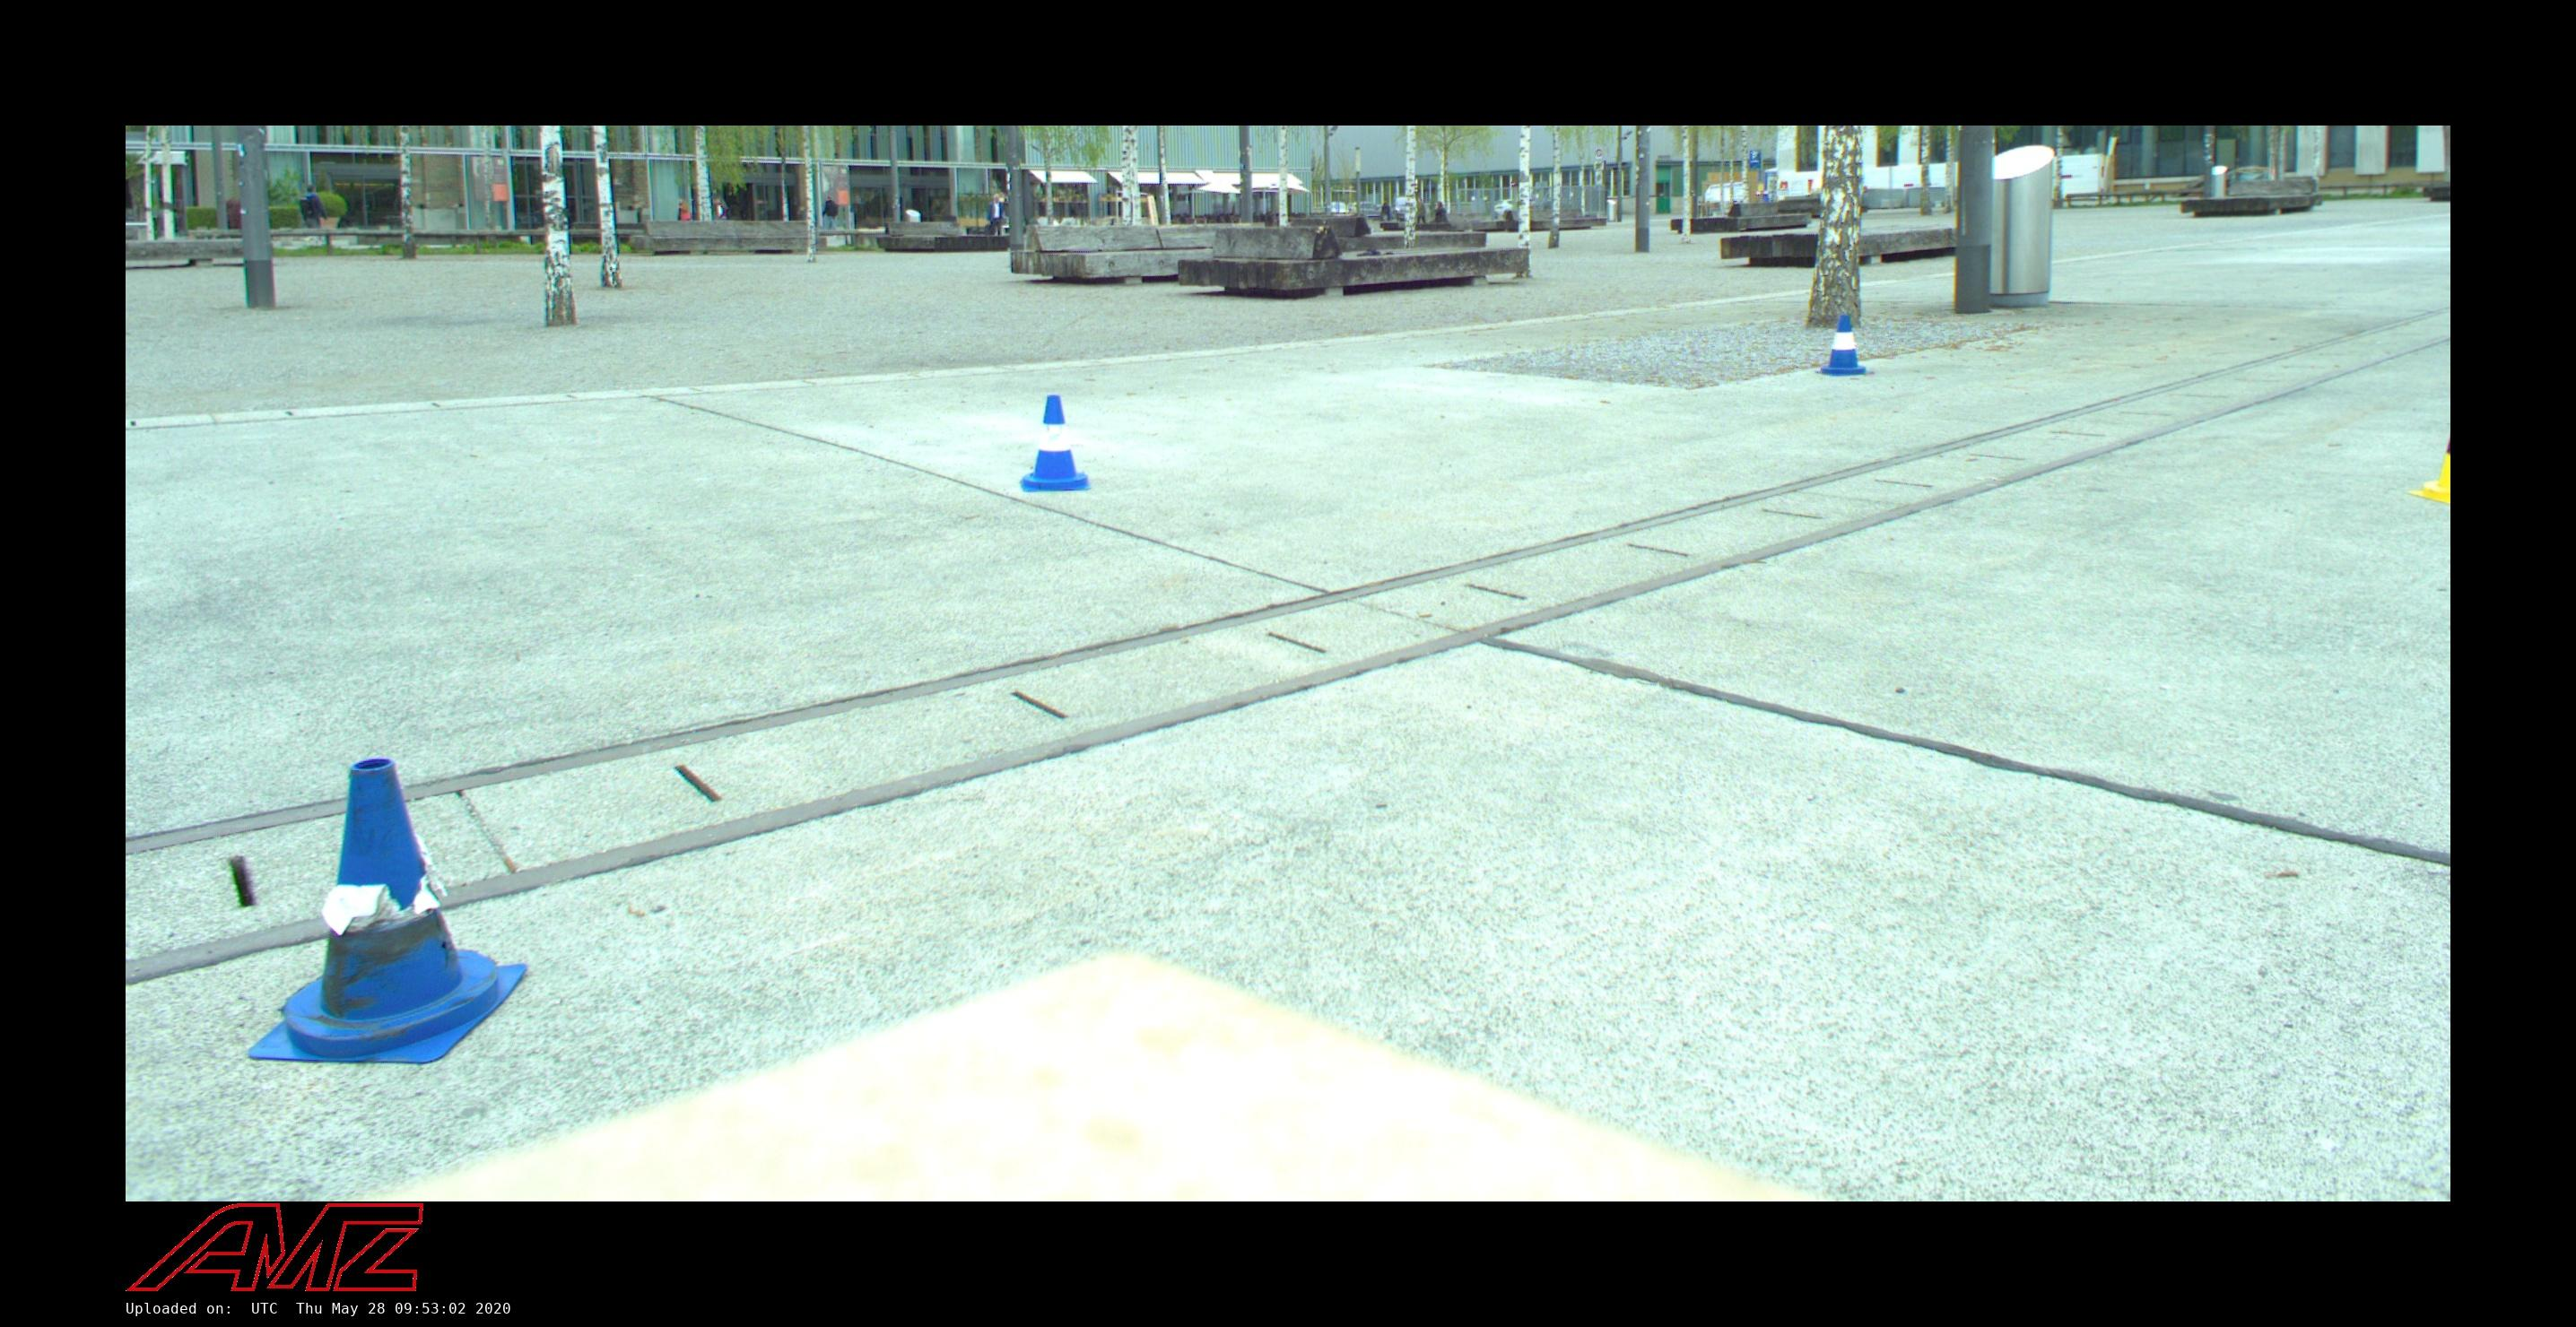blue_cone: (253, 759, 527, 1055), (1012, 395, 1093, 492), (1817, 315, 1873, 375)
